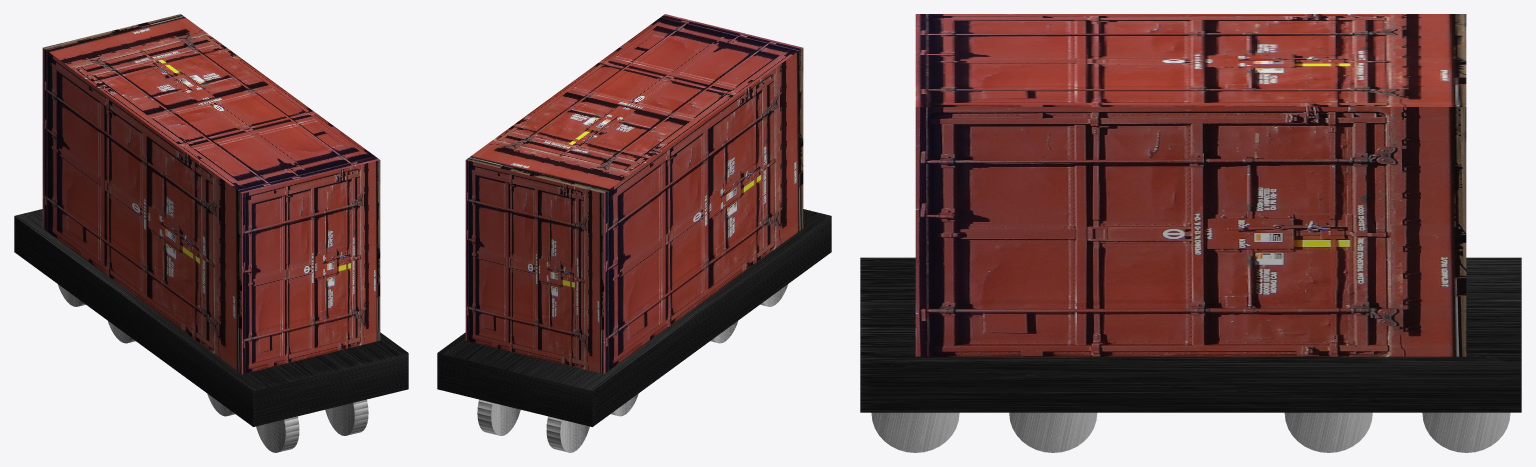
File: wagon3.fbx
3 renders of one model, left to right at view 1: azimuth 30°, elevation 25°; view 2: azimuth 150°, elevation 25°; view 3: azimuth 270°, elevation 25°, orthographic. The views are drawn at different scales.
Parts seen in each view (by area): view 1: Cube, Cube.001, Cylinder.006, Cylinder.005; view 2: Cube, Cube.001, Cylinder.012, Cylinder.011; view 3: Cube, Cube.001, Cylinder.007, Cylinder.010, Cylinder.005, Cylinder.011.
Boxes of the visible parts, x1,y1,x2,y2 form: Cube: [42, 14, 380, 374]; Cube.001: [14, 209, 408, 426]; Cylinder.006: [256, 416, 299, 452]; Cylinder.005: [325, 399, 368, 435]; Cube: [465, 14, 803, 374]; Cube.001: [437, 209, 831, 426]; Cylinder.012: [546, 416, 589, 452]; Cylinder.011: [477, 399, 520, 435]; Cube: [915, 14, 1466, 356]; Cube.001: [860, 257, 1521, 412]; Cylinder.007: [1009, 412, 1097, 452]; Cylinder.010: [1284, 412, 1372, 452]; Cylinder.005: [871, 412, 959, 452]; Cylinder.011: [1422, 412, 1510, 452].
Size of the model in its own units: 225 by 365 by 600.
10 materials, 10 textured.
